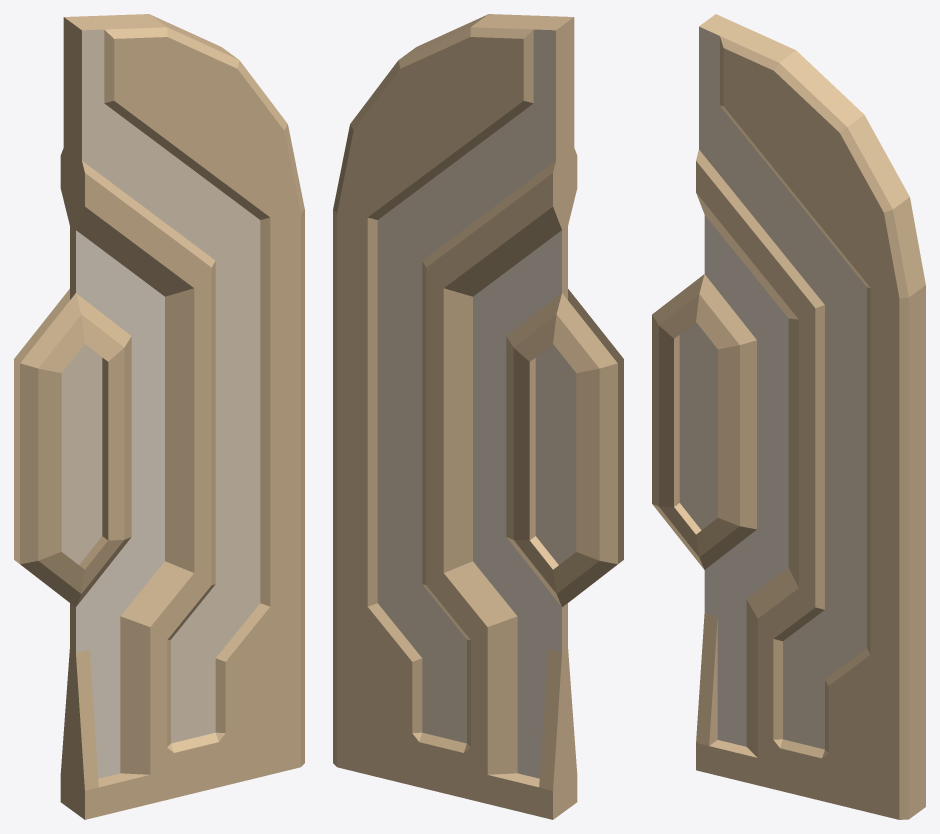
The picture shows the model from 3 angles, left to right: view 1: azimuth 30°, elevation 25°; view 2: azimuth 150°, elevation 25°; view 3: azimuth 330°, elevation 25°; orthographic projection. The views are drawn at different scales.
Visible parts, largest first — view 1: object3.008; view 2: object3.008; view 3: object3.008.
Boxes of the visible parts, <box> form: object3.008: <box>14,14,304,819</box>; object3.008: <box>333,14,623,819</box>; object3.008: <box>652,14,925,819</box>.
Bounding box in the file's own units: 1 × 2.7 × 0.15.
